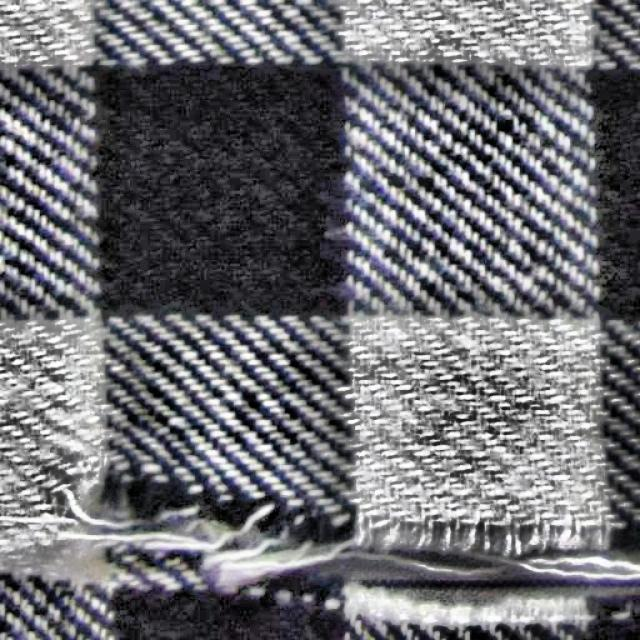Stitch: (403, 483, 624, 620), (224, 480, 375, 599), (42, 465, 196, 577)
